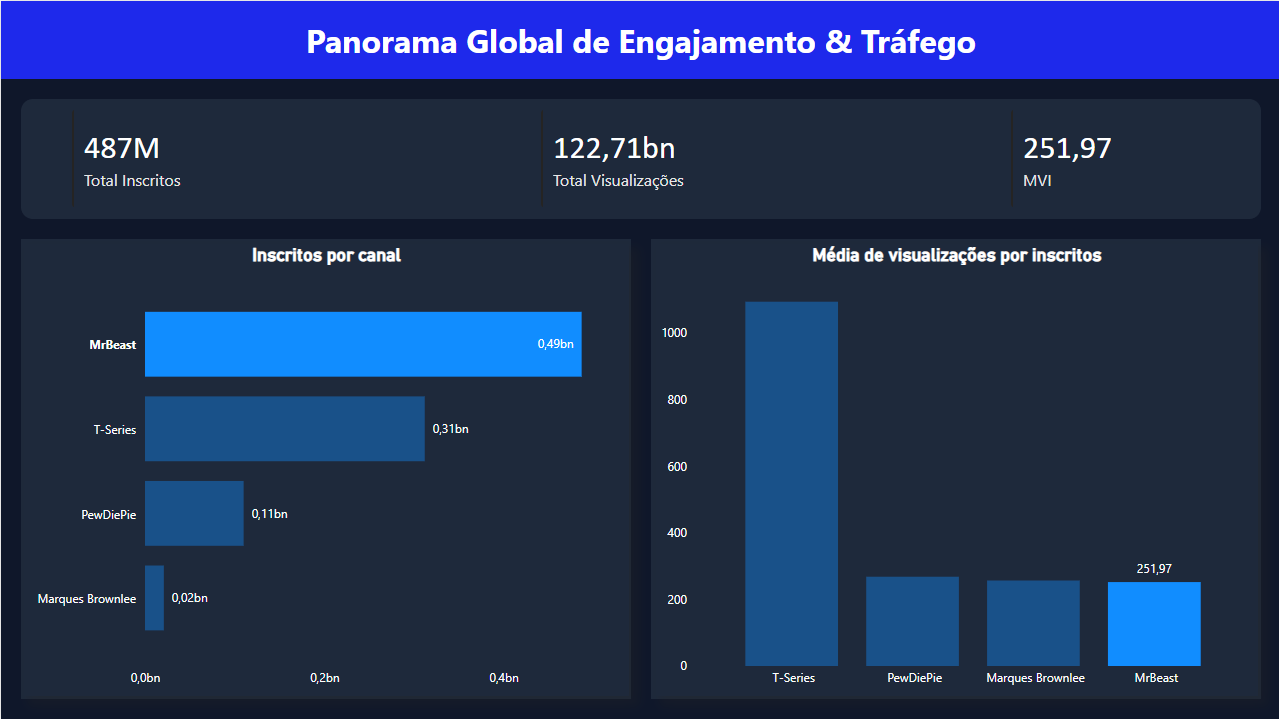

The dashboard page shown, as its layout file describes it:
{"tool":"powerbi","page":{"name":"Página 1","canvas":[1280,720],"ordinal":0},"visuals":[{"type":"cardVisual","fields":{"Data":["dataset.Total Inscritos"]},"box":[54.5,90.8,263.3,133.1],"z":0},{"type":"cardVisual","fields":{"Data":["dataset.Total Visualizações"]},"box":[523.5,90.8,263.3,133.1],"z":1000},{"type":"cardVisual","fields":{"Data":["dataset.MVI"]},"box":[992.5,90.8,263.3,133.1],"z":2000},{"type":"clusteredBarChart","title":"Inscritos por canal","fields":{"Category":["dataset.nome_canal"],"Y":["dataset.Total Inscritos"]},"box":[23.3,243.3,605,451.7],"z":3000},{"type":"clusteredColumnChart","title":"Média de visualizações por inscritos","fields":{"Category":["dataset.nome_canal"],"Y":["dataset.MVI"]},"box":[655,243.3,601.7,451.7],"z":4000},{"type":"textbox","box":[0,11.7,1280,55],"z":5000}]}

Visuals, with their boxes in screenshot pixels (x1, y1, x2, y2), scaled from the page's 1280x720 canvas onto the 1279x719 screenshot:
cardVisual - dataset.Total Inscritos: BBox(54, 91, 318, 224)
cardVisual - dataset.Total Visualizações: BBox(523, 91, 786, 224)
cardVisual - dataset.MVI: BBox(992, 91, 1255, 224)
"Inscritos por canal" clusteredBarChart: BBox(23, 243, 628, 694)
"Média de visualizações por inscritos" clusteredColumnChart: BBox(654, 243, 1256, 694)
textbox: BBox(0, 12, 1278, 67)
